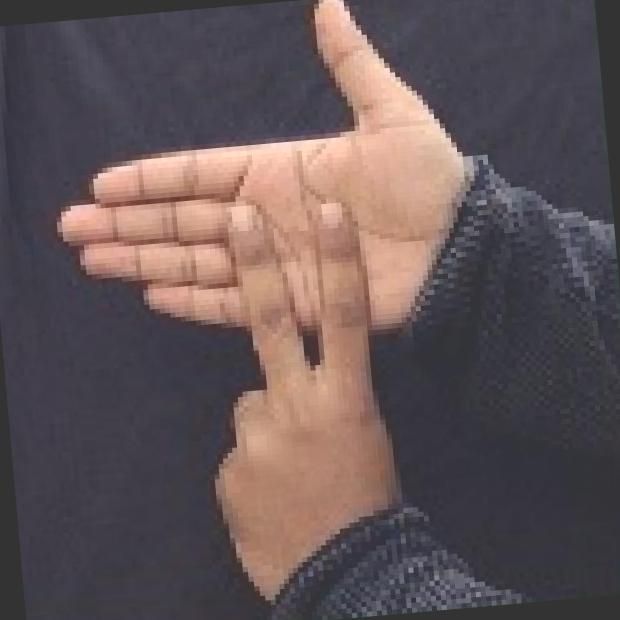M: (29, 0, 506, 609)
